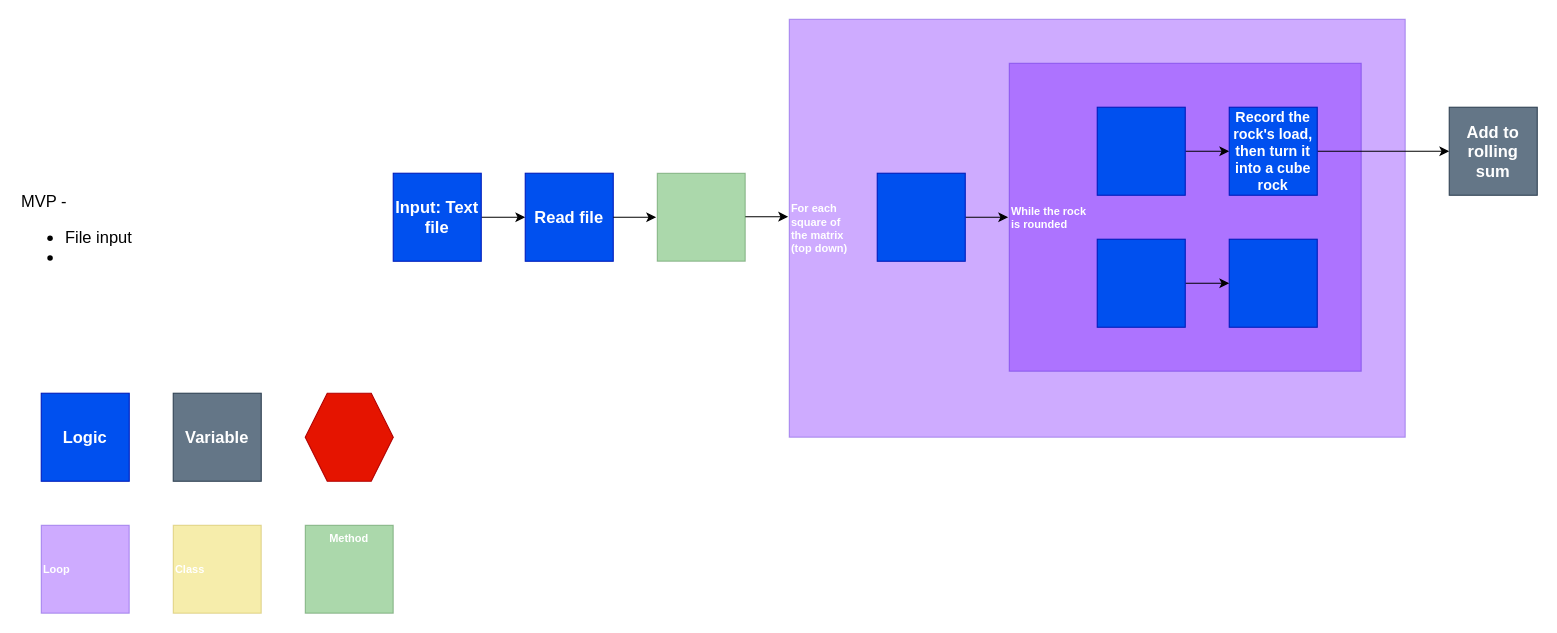
The diagram is 1557 pixels wide and 633 high, and some of its shapes have lost their labels. Each missing label, with the centre of its shape:
"Create a terrain matrix to store initial" goes at pixel 700 216.
"Else" goes at pixel 1140 282.
"If a rounded rock is encountered:" goes at pixel 920 216.
"If the square above is a cube rock or off the matrix" goes at pixel 1140 150.
"Move it up one square" goes at pixel 1272 282.
"Note" goes at pixel 348 436.
